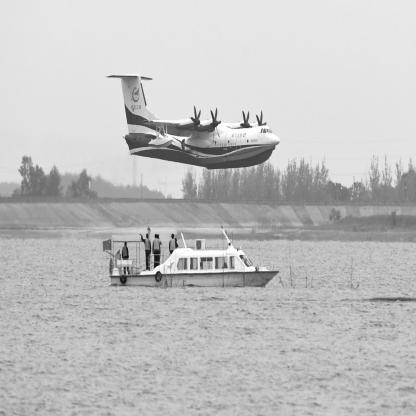AG600: (106, 74, 281, 171)
